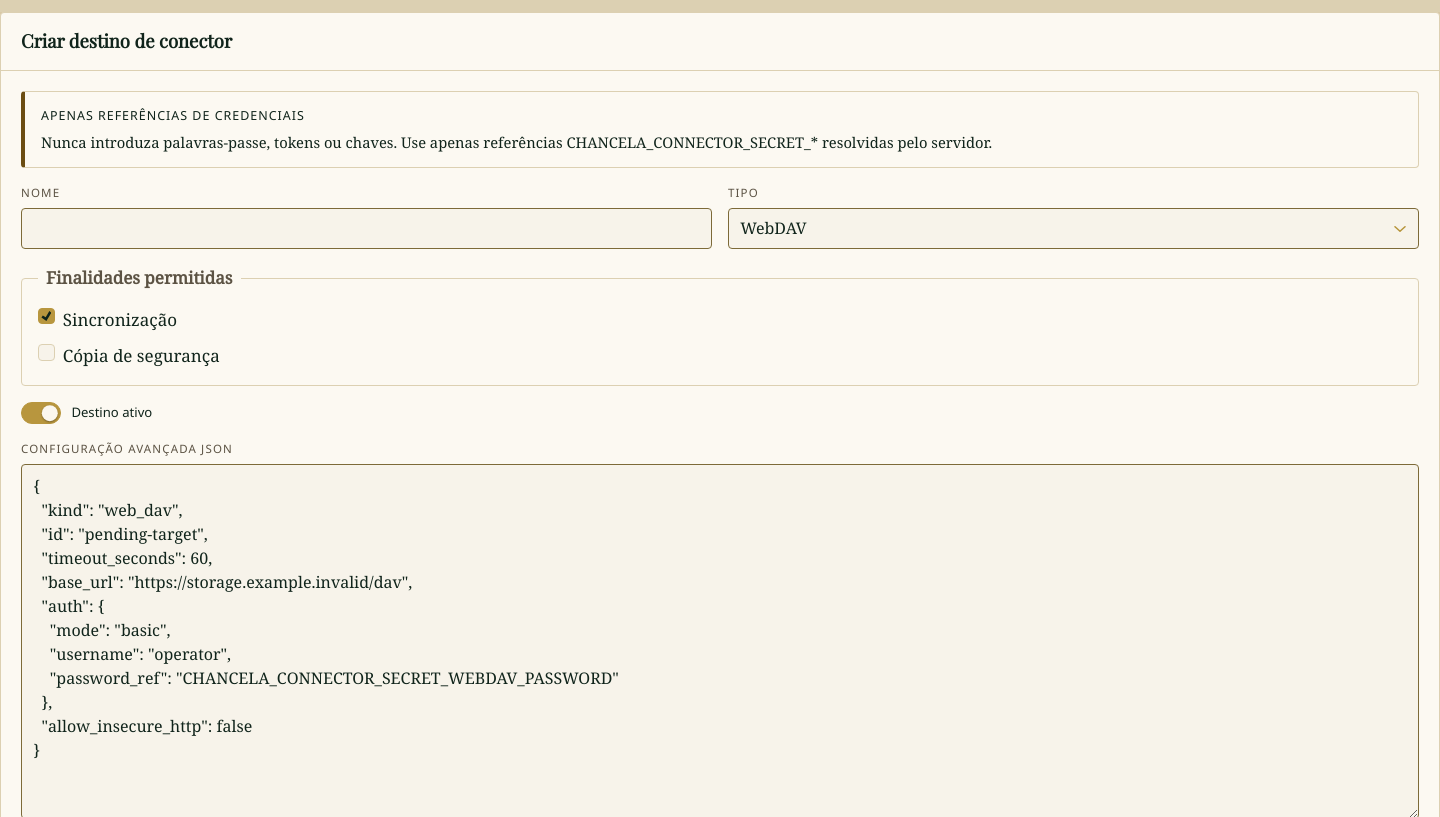
Scenario: CreateConnectorForm › cannot create a target with no purpose selected
This screenshot has width=1440, height=817.
Type "Destino novo" into the field labelled "Nome".
click(366, 228); type("Destino novo")  # box [21,208,712,249]
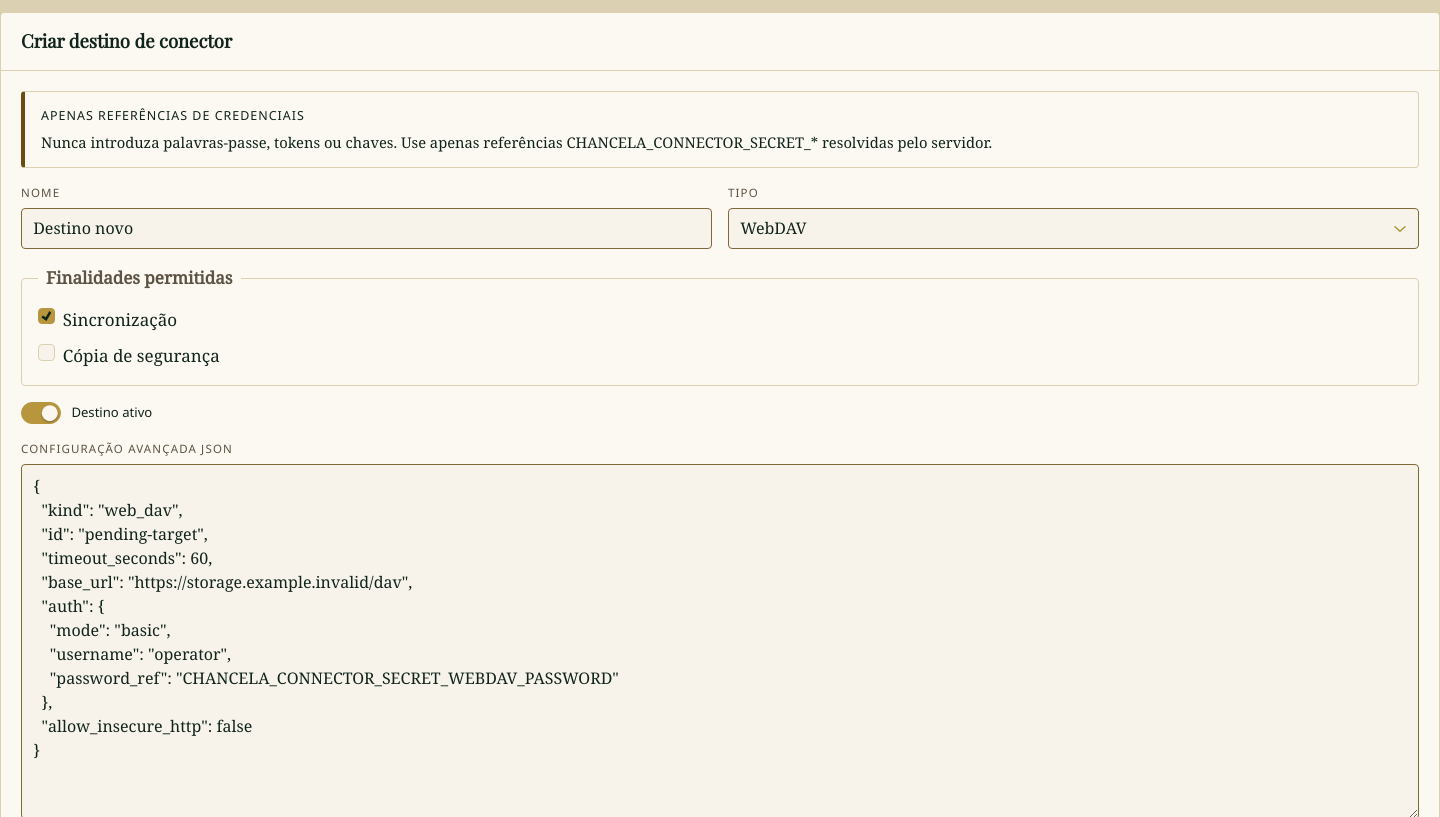
Click the checkbox labelled "Sincronização".
click(46, 316)  # box [38,308,55,324]
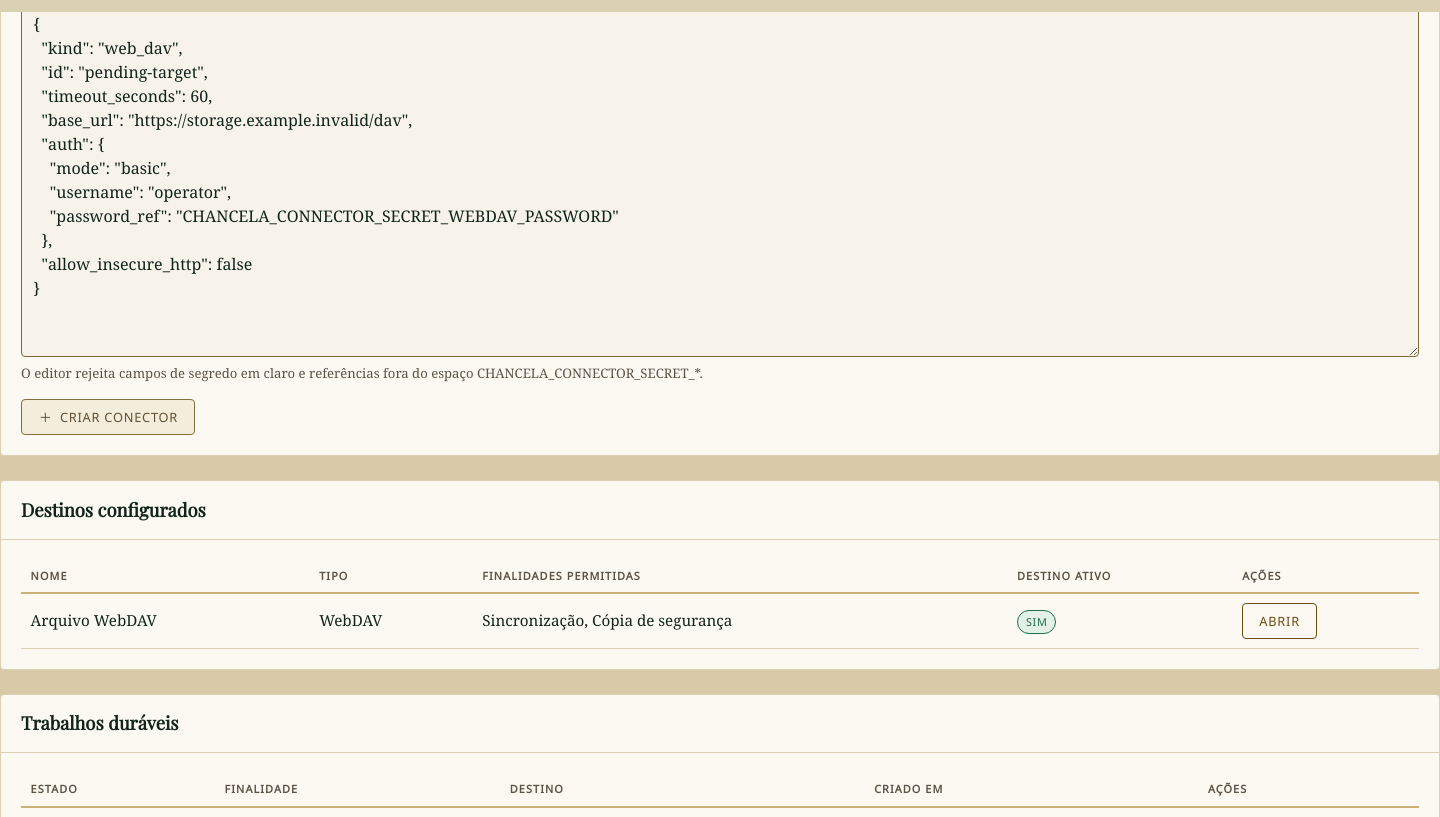
Expected: the button "Criar conector" is disabled, [21,399,195,435]
